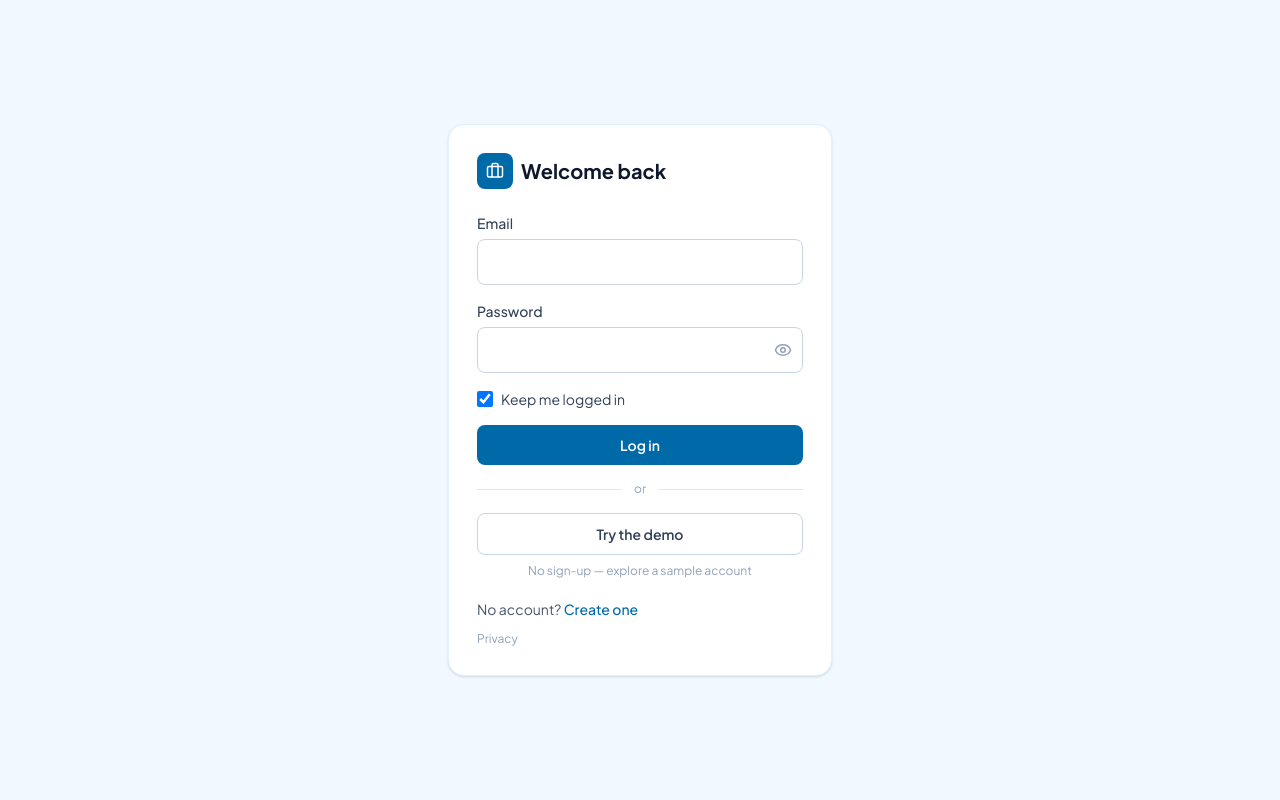
Test case: the "Try the demo" button logs in with the demo account
Click the button "Try the demo" at (640, 534), box left=477, top=513, right=803, bottom=555
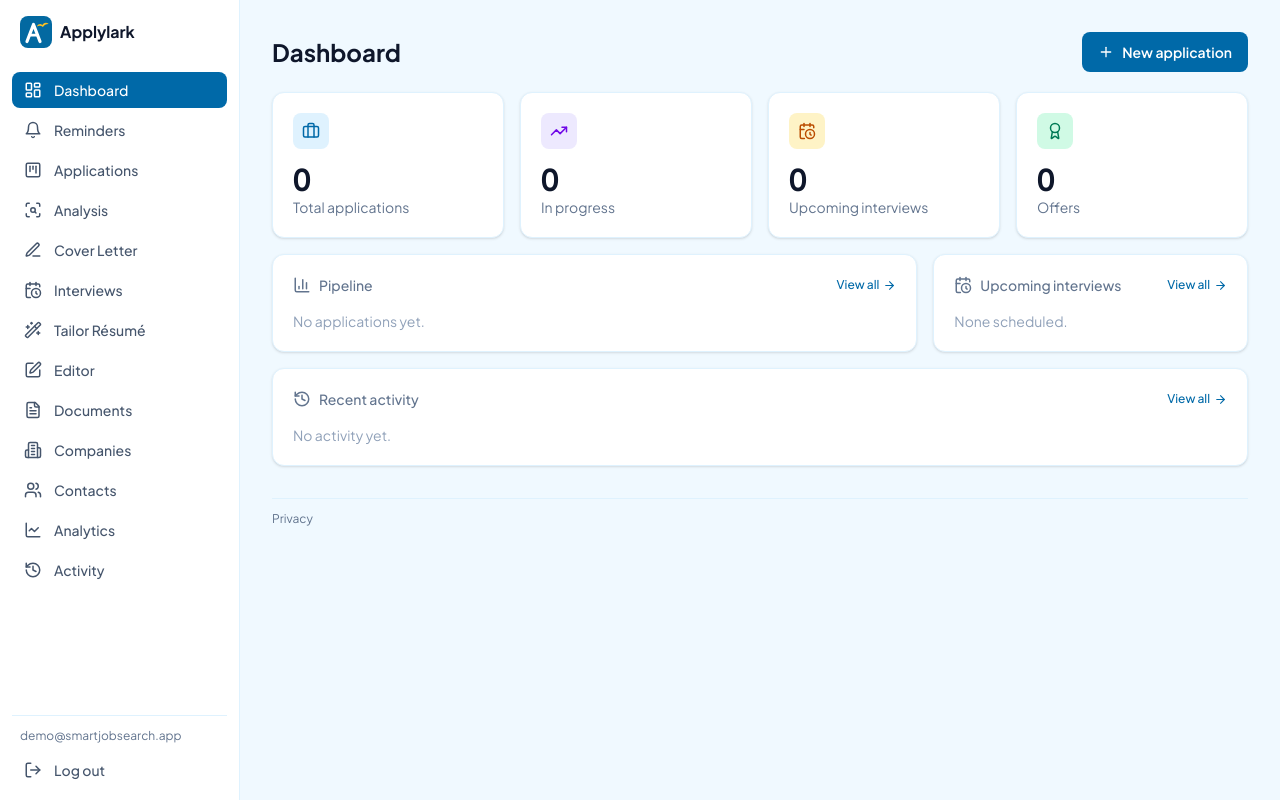
Expected: the heading "Dashboard" is shown, left=272, top=36, right=401, bottom=68
